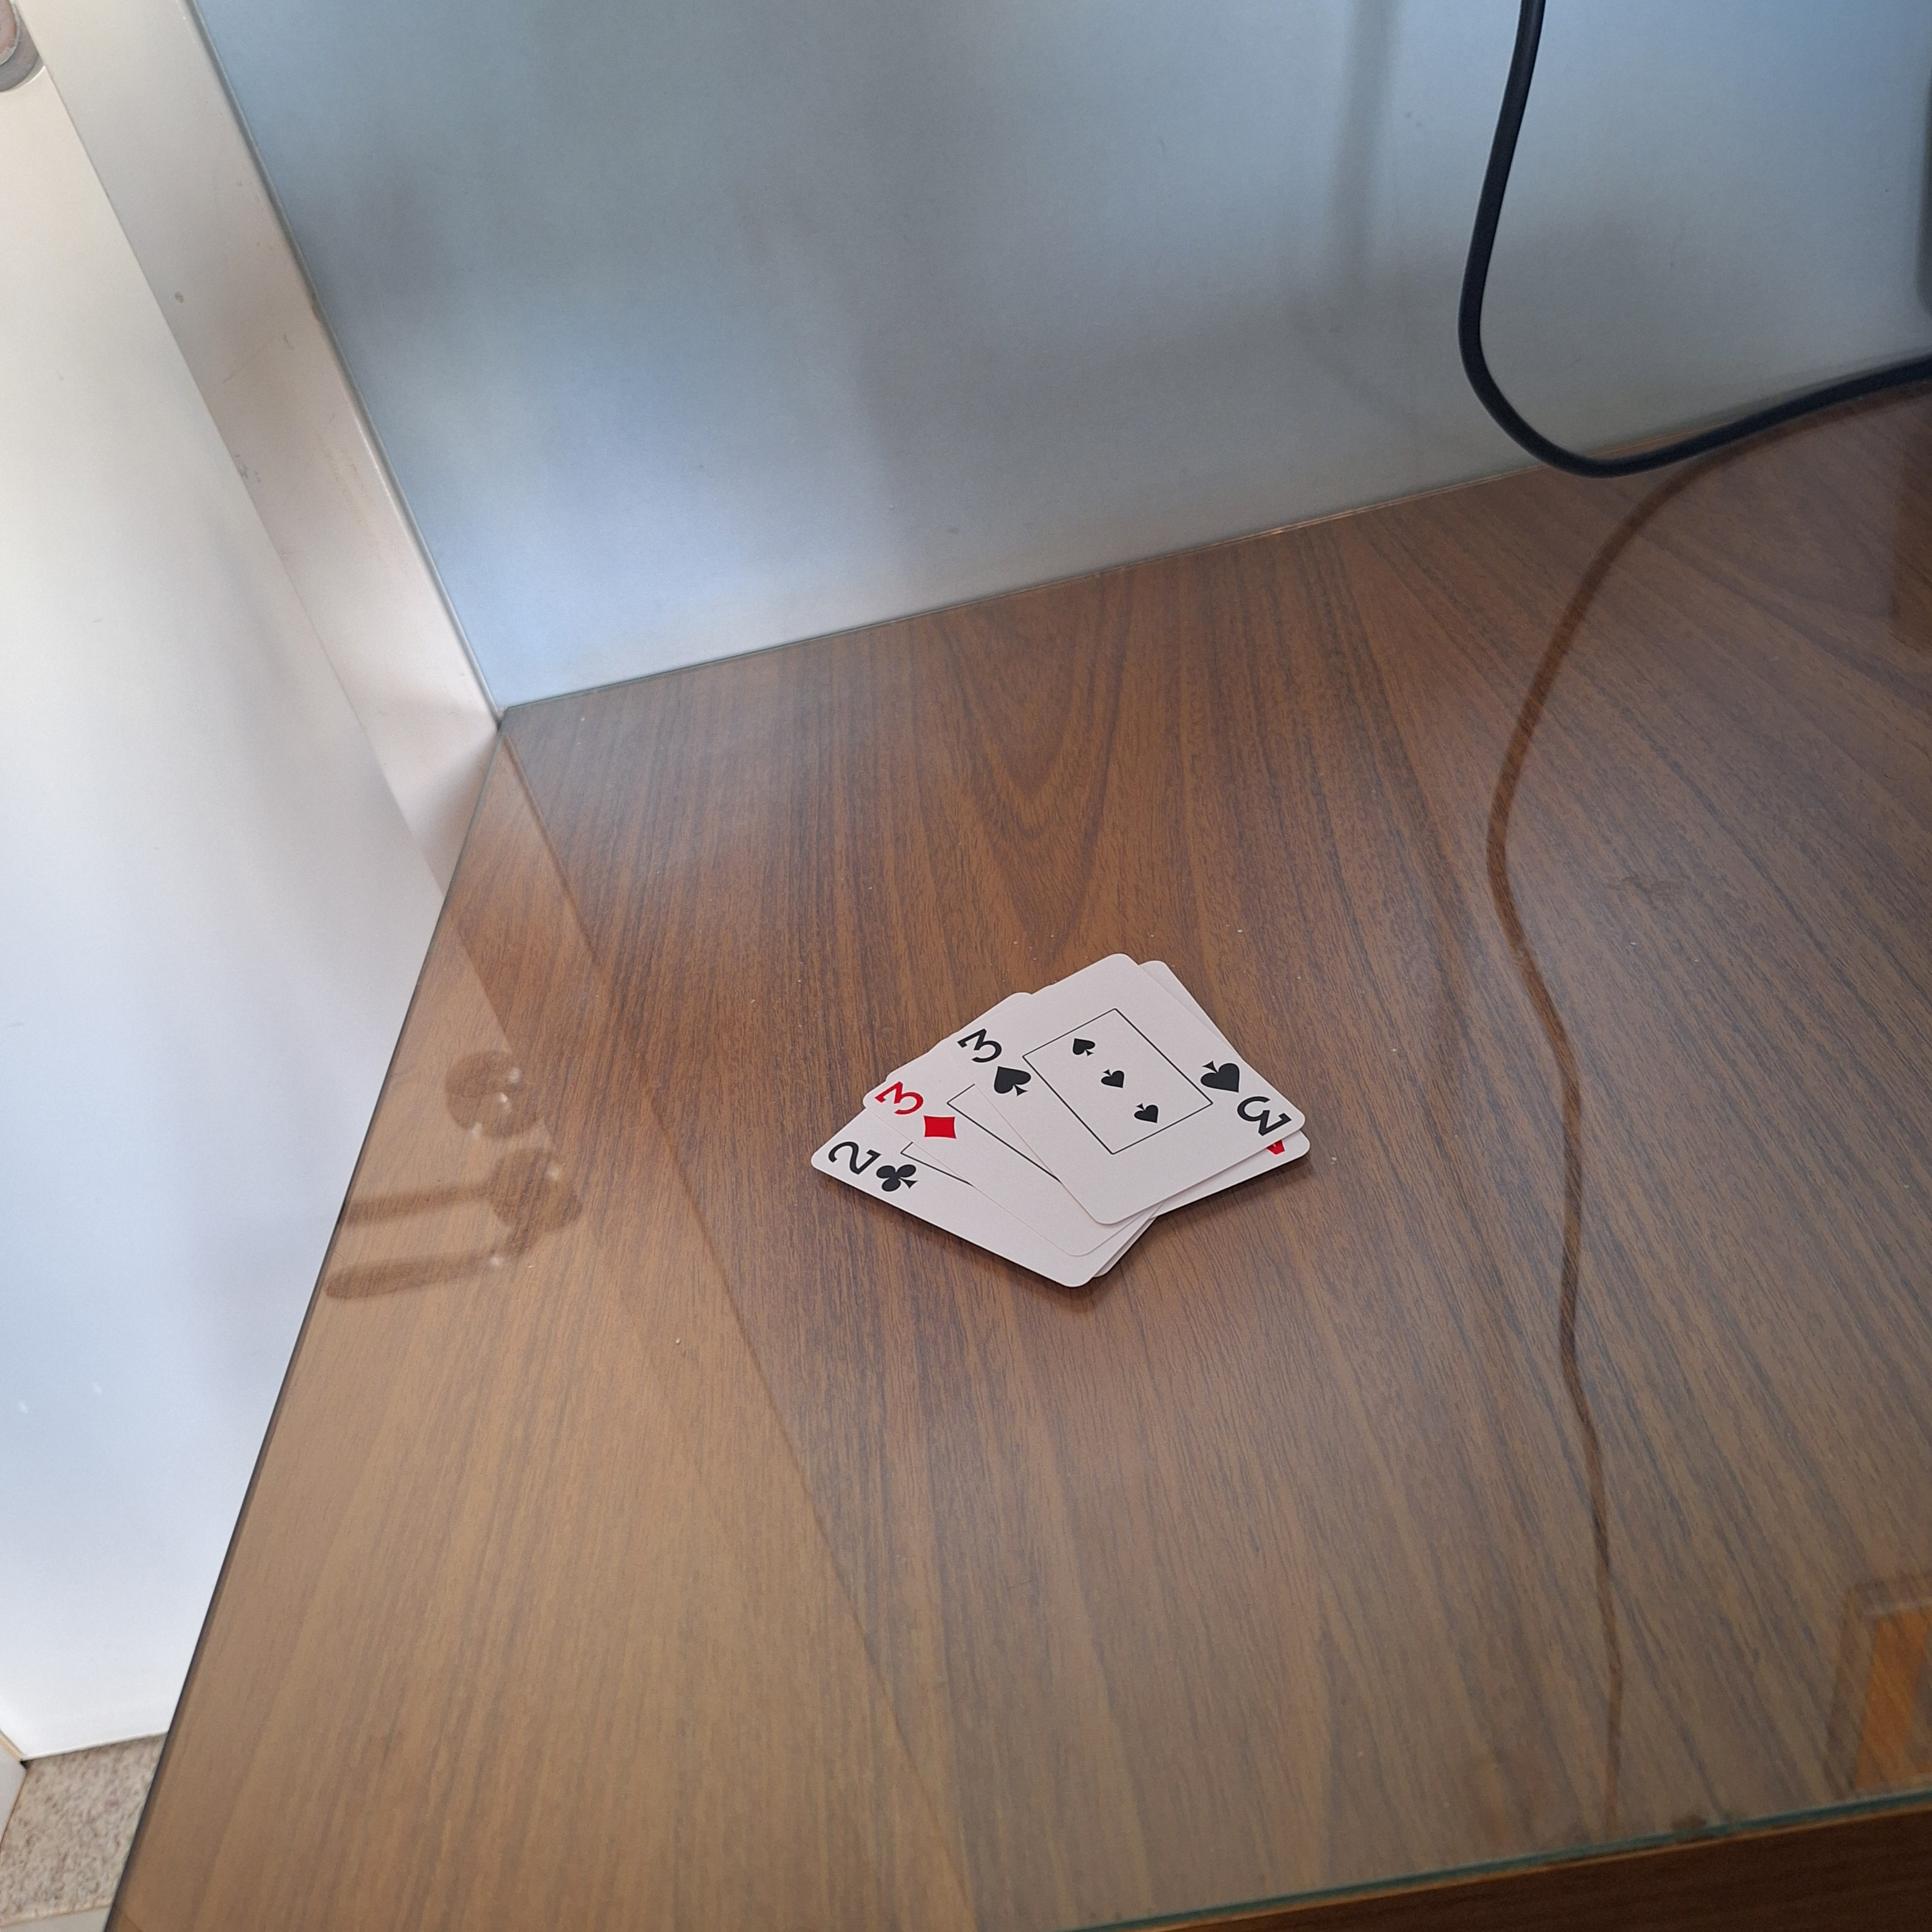2P: (821, 1132, 920, 1200)
3E: (1191, 1051, 1295, 1143), (952, 1021, 1051, 1106)
3O: (870, 1076, 968, 1148)
